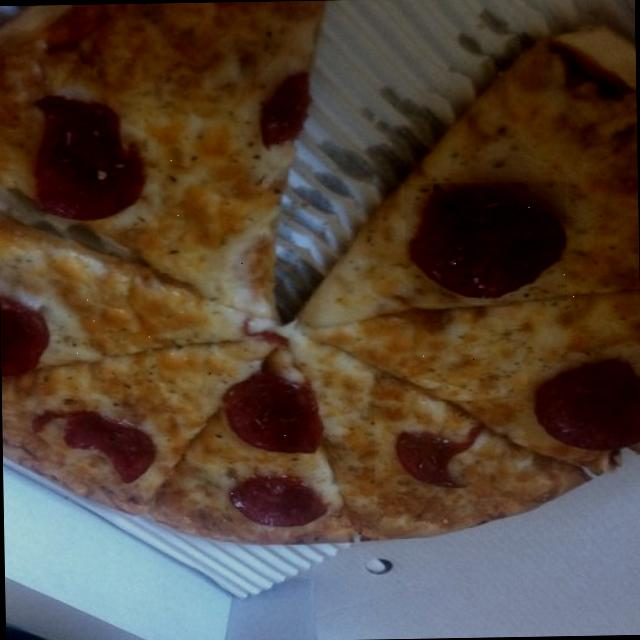cheese: (62, 272, 226, 408), (156, 132, 264, 290), (376, 324, 527, 402), (569, 150, 618, 296), (341, 401, 375, 496), (306, 342, 355, 389)
pepperoni: (404, 180, 566, 304), (23, 82, 142, 231), (530, 358, 640, 474), (37, 409, 162, 507), (220, 371, 326, 466), (220, 461, 330, 540), (398, 416, 489, 498), (0, 292, 46, 385), (258, 69, 309, 148)
pizza: (0, 0, 640, 542)
